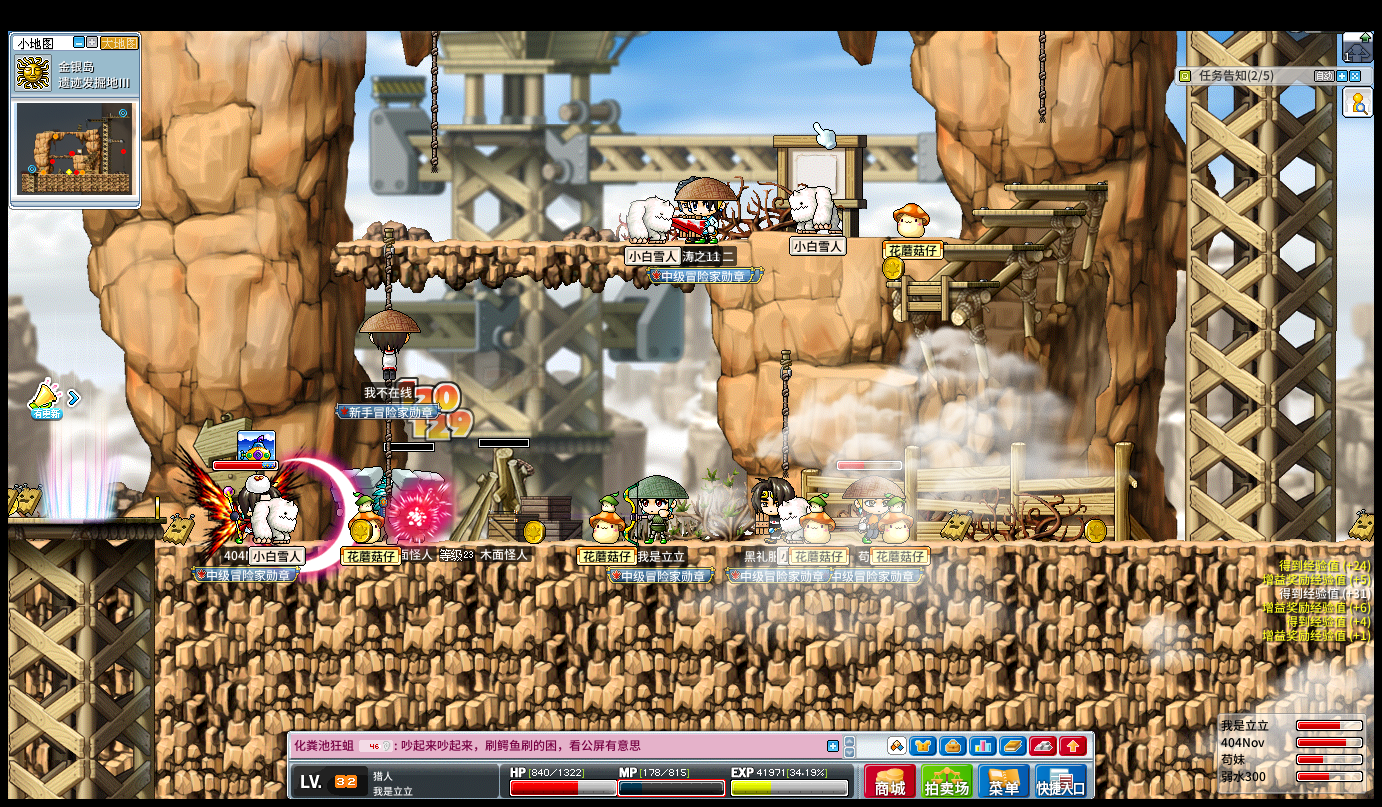floor: (336, 238, 712, 248), (804, 365, 920, 385), (806, 362, 915, 381), (4, 516, 168, 524), (970, 205, 1084, 216), (884, 280, 996, 291), (12, 515, 165, 523), (881, 279, 997, 288), (848, 232, 975, 240), (932, 243, 1041, 251), (970, 207, 1082, 214), (1003, 184, 1104, 191)
monster: (375, 467, 449, 541)
rope: (777, 349, 790, 479), (430, 29, 440, 170), (428, 29, 437, 171), (380, 227, 393, 309), (1036, 30, 1045, 121)
